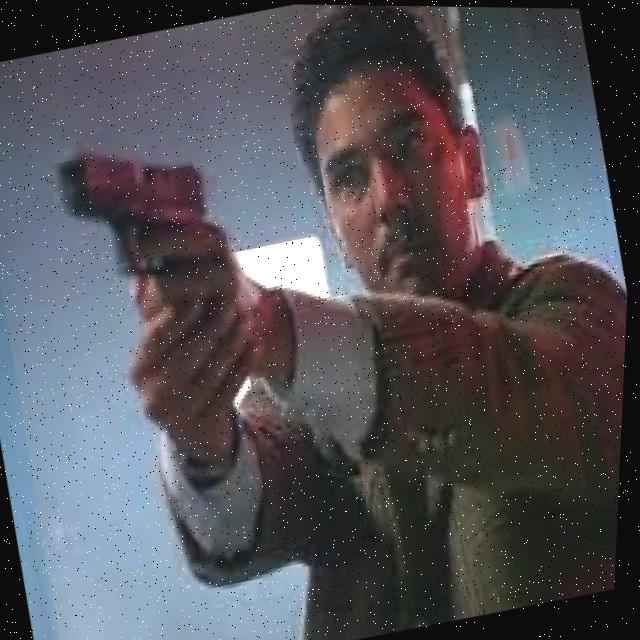pistol: (49, 129, 225, 293)
